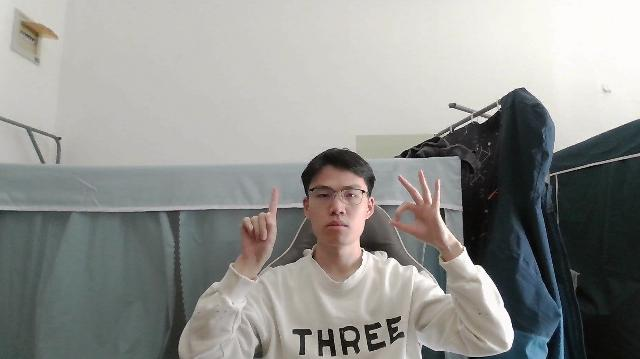ok: (391, 172, 447, 250)
one: (240, 187, 279, 263)
